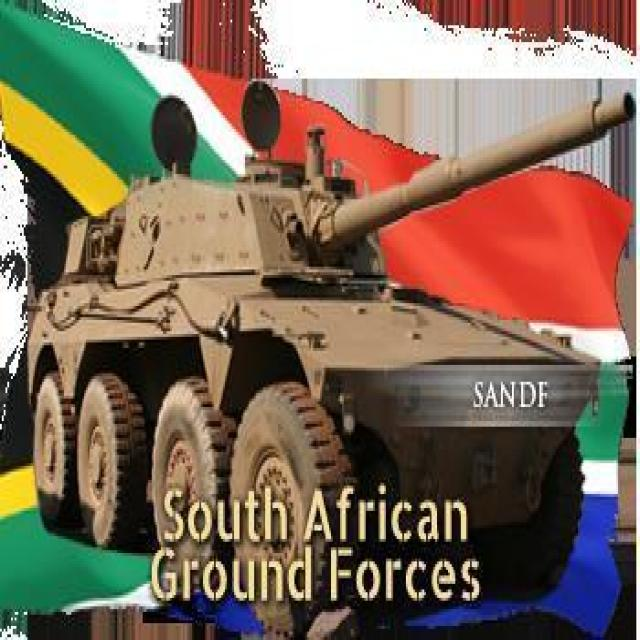Tanks: (20, 172, 604, 592)
